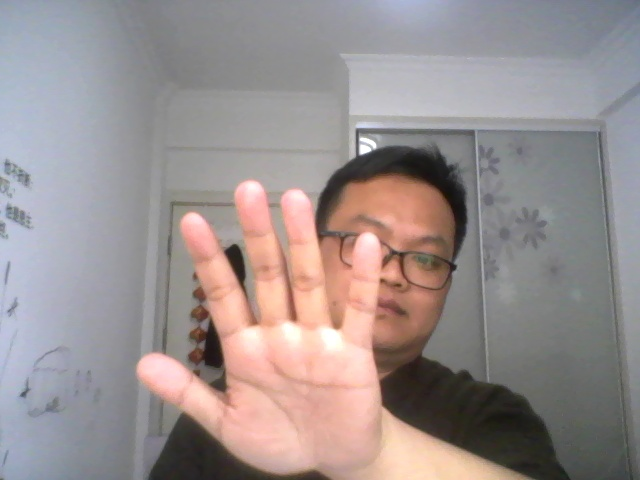Hello: (131, 176, 393, 476)
